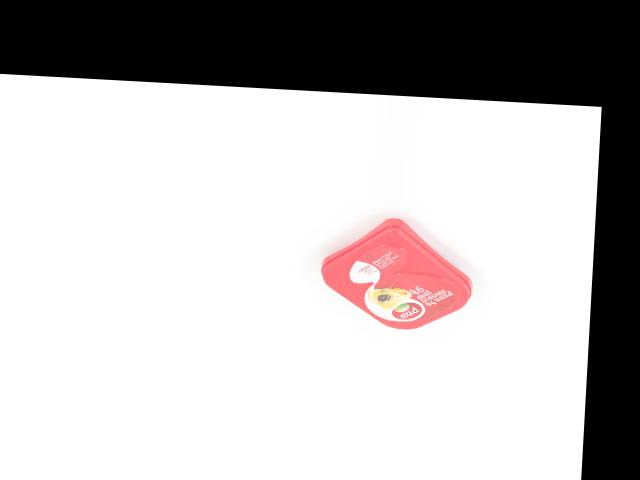cheese: (317, 213, 476, 333)
